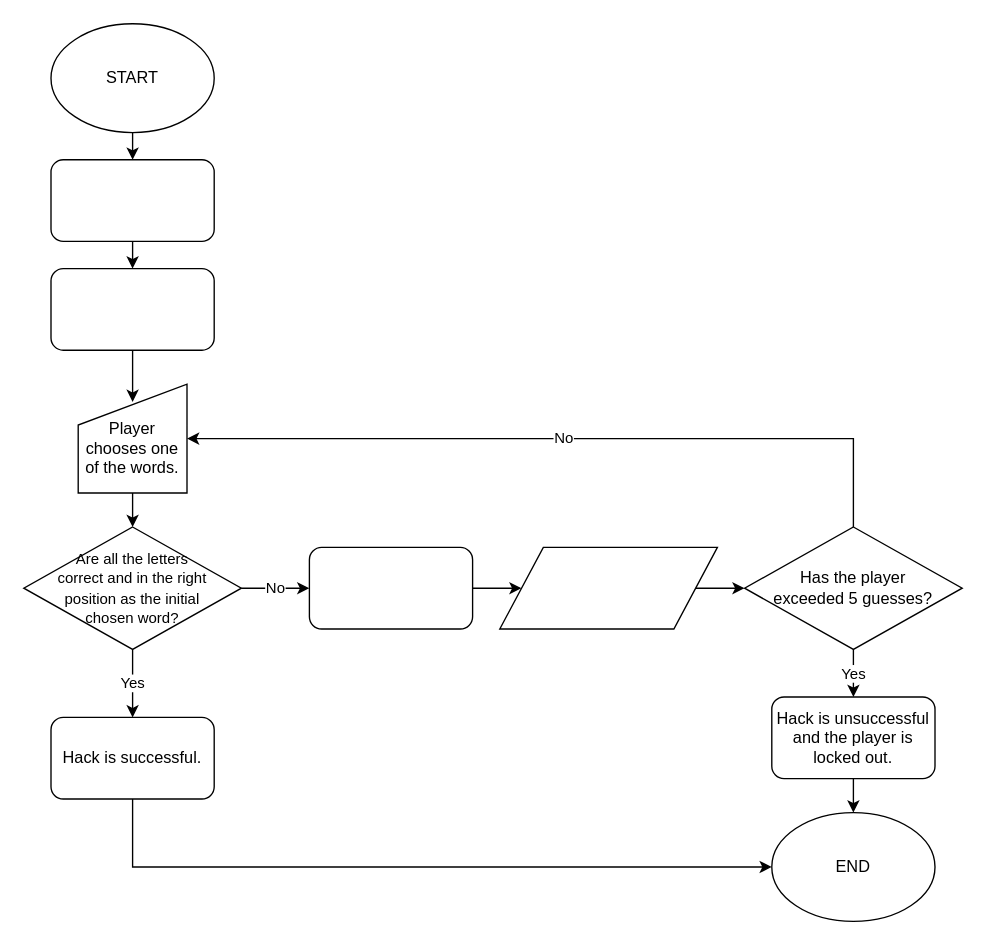
Some shapes in this 986 by 945 pixel diagram are drawn without their labels. The centre of each missing label's shape, as x and y in pixels:
"Choose a word with 'x' amount of letters." belongs at point (132, 199).
"Display how many letters are in the correct position as the original word." belongs at point (607, 587).
"Generate several words with the same 'x' amount of letters." belongs at point (132, 308).
"Player loses an attempt." belongs at point (390, 587).
